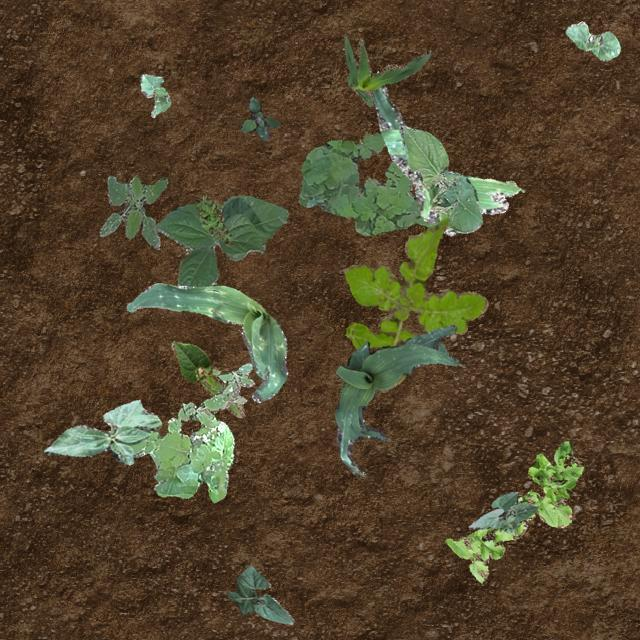crop: (370, 82, 520, 234), (126, 282, 286, 402), (334, 324, 458, 476), (154, 195, 288, 286), (398, 125, 482, 232), (42, 398, 160, 464), (342, 34, 431, 106), (170, 339, 243, 416), (225, 564, 292, 624), (468, 490, 536, 532), (564, 20, 620, 60), (140, 72, 168, 116)
weed: (342, 216, 487, 386), (443, 441, 582, 582), (298, 133, 438, 234), (128, 412, 234, 502), (176, 362, 254, 428), (98, 175, 166, 248), (194, 194, 232, 244), (240, 96, 280, 140)
